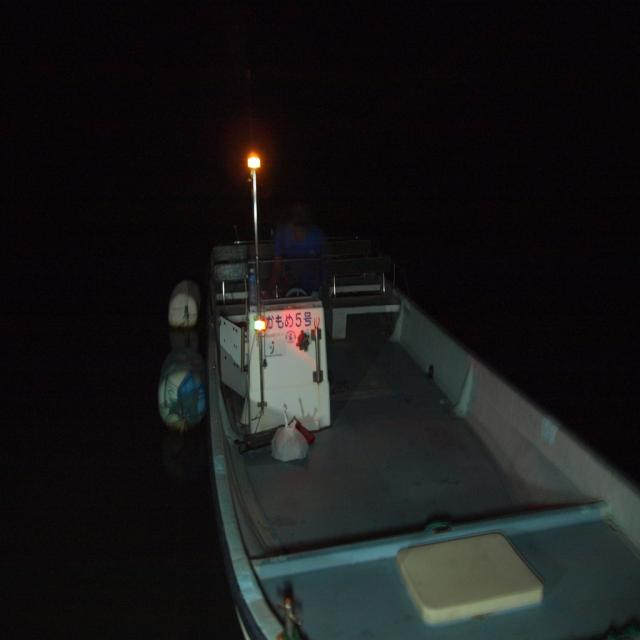Boat: (159, 135, 624, 619)
